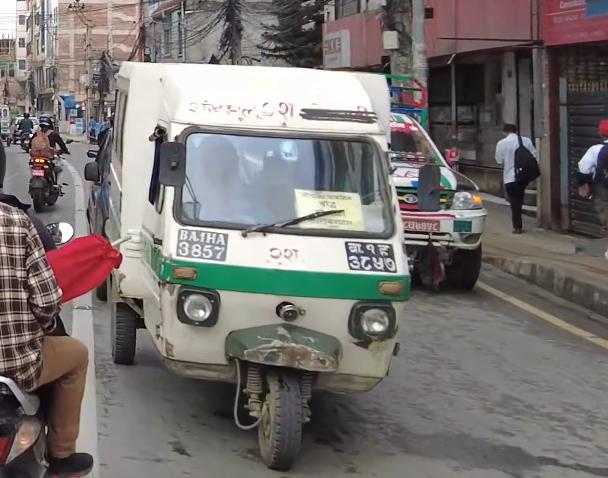bike: (21, 136, 72, 214)
tempo: (93, 43, 414, 474)
